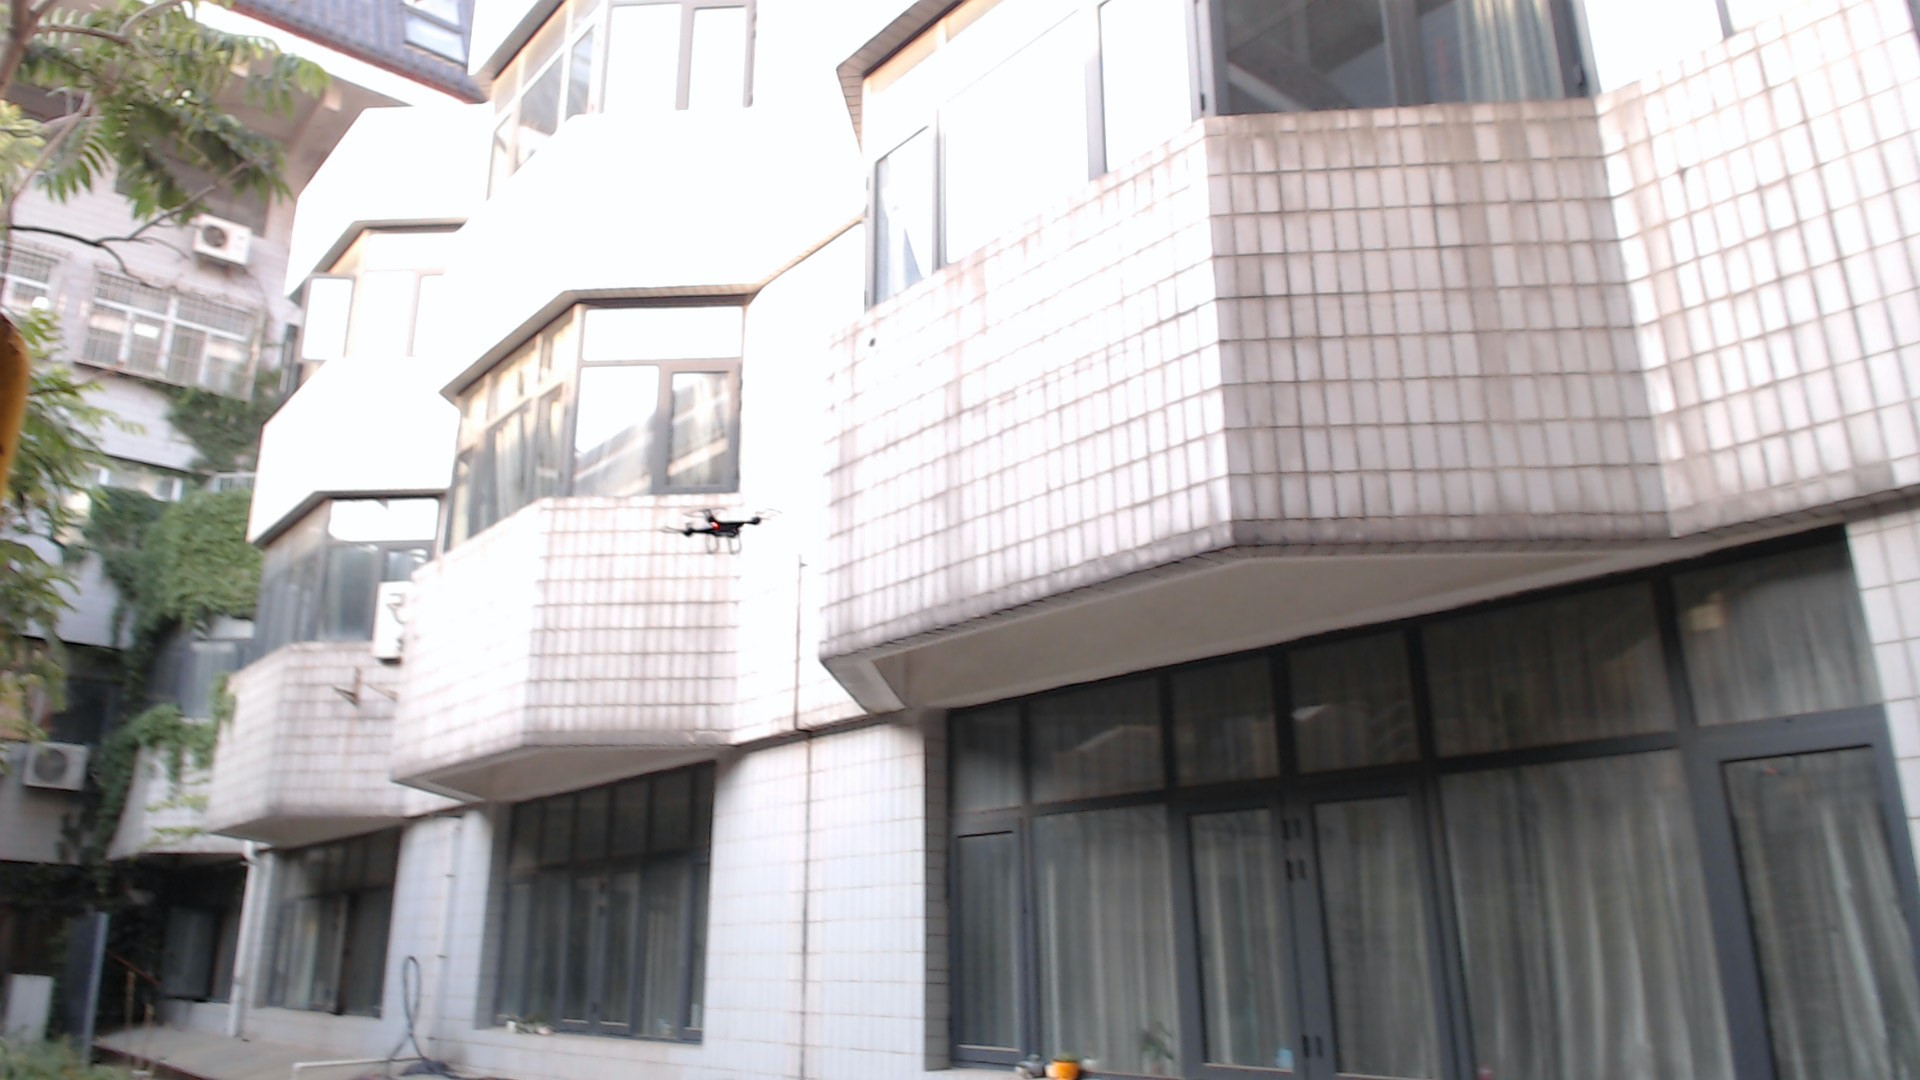drone: (636, 484, 800, 567)
